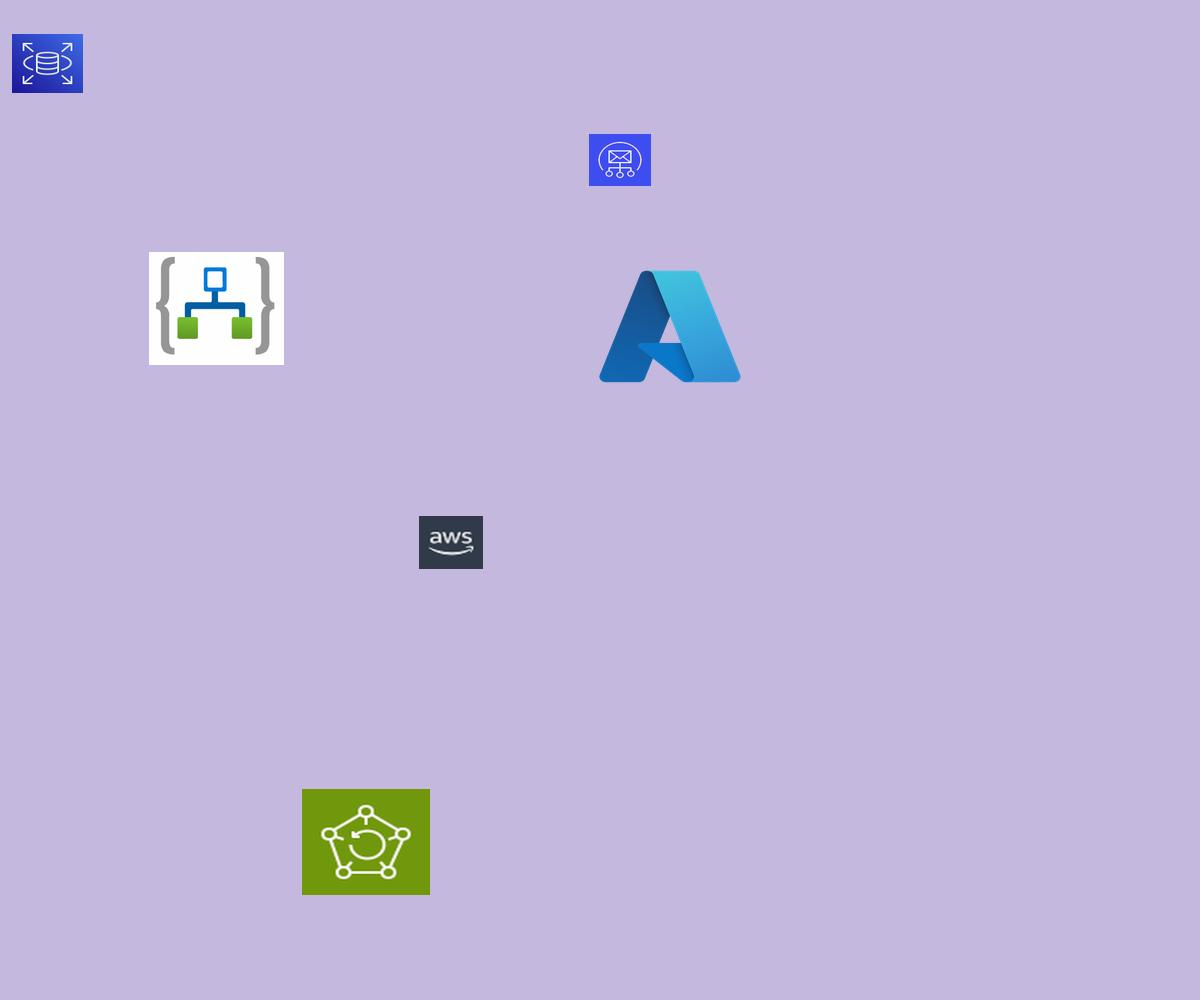AWS-Backup: (302, 789, 430, 895)
AWS-Cloud-logo: (419, 516, 483, 569)
AWS-RDS: (12, 34, 83, 93)
AWS-Simple-Email-Service: (589, 134, 651, 186)
Azure_integration-204-Logic-Apps: (149, 252, 284, 365)
Azure_services: (593, 262, 747, 391)
